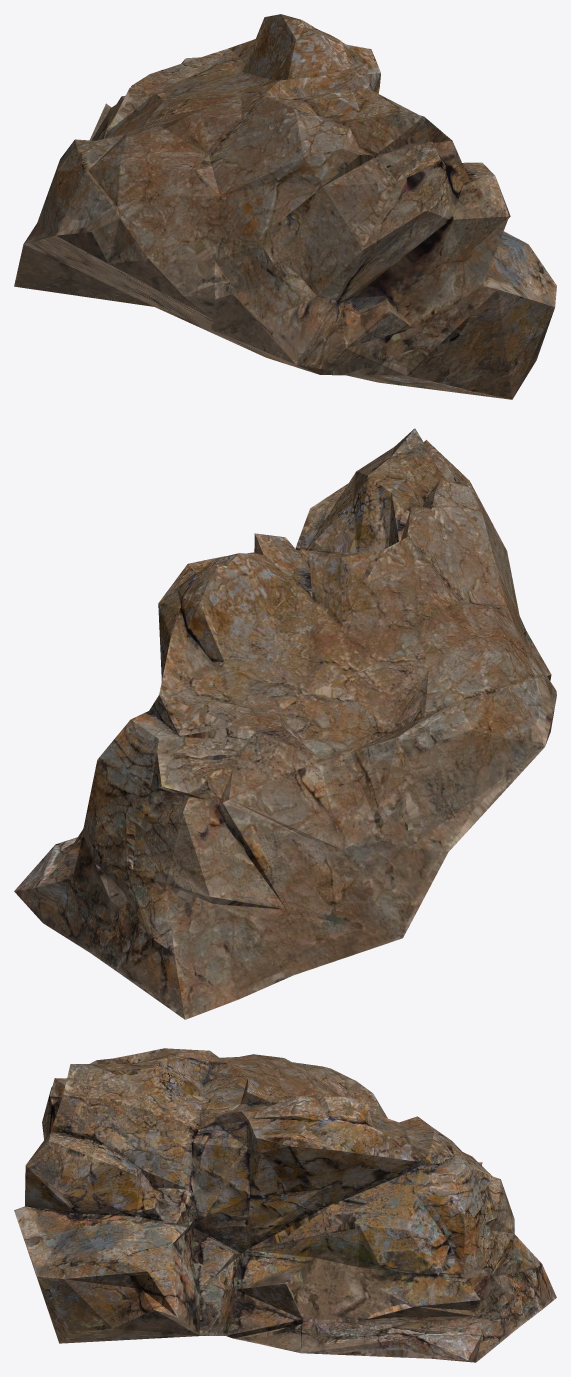
File: boulder_01.glb
3 renders of one model, top to bottom at view 1: azimuth 30°, elevation 25°; view 2: azimuth 150°, elevation 25°; view 3: azimuth 270°, elevation 25°, orthographic. The views are drawn at different scales.
Visible parts, largest first — view 1: boulder_01; view 2: boulder_01; view 3: boulder_01.
Boxes of the visible parts, bbox=[...] form: boulder_01: bbox=[14, 14, 556, 399]; boulder_01: bbox=[14, 428, 556, 1019]; boulder_01: bbox=[14, 1048, 556, 1362].
Size of the model in its own units: 1.26 by 0.9739 by 1.81.
Materials: 1 (1 with a texture image).
